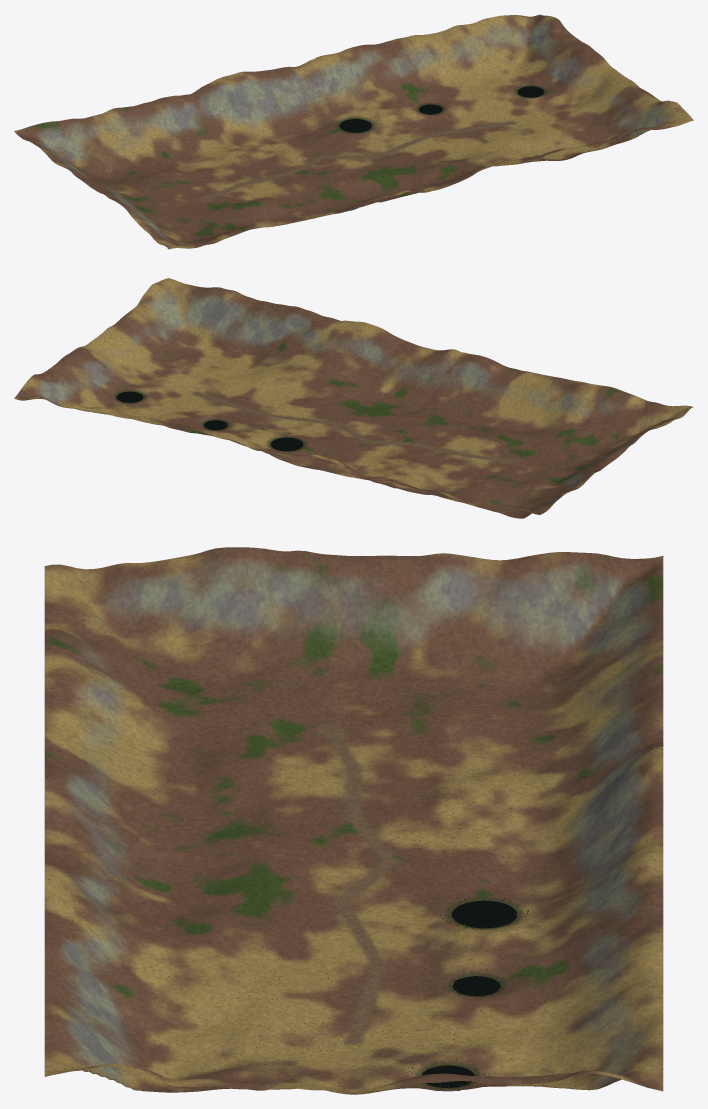
The model's file is SM_Art_Terrain_L_HighmooreRoad.gltf.
The picture shows the model from 3 angles, top to bottom: view 1: azimuth 30°, elevation 25°; view 2: azimuth 150°, elevation 25°; view 3: azimuth 270°, elevation 25°; orthographic projection. The views are drawn at different scales.
Parts seen in each view (by area): view 1: SM_Art_Terrain_L_HighmooreRoad; view 2: SM_Art_Terrain_L_HighmooreRoad; view 3: SM_Art_Terrain_L_HighmooreRoad.
Part boxes in pixels (x1,y1,x2,y2): SM_Art_Terrain_L_HighmooreRoad: (14,14,693,249); SM_Art_Terrain_L_HighmooreRoad: (14,278,693,518); SM_Art_Terrain_L_HighmooreRoad: (44,547,663,1094).
Size of the model in its own units: 298 by 23.59 by 153.
6 materials, 5 textured.
